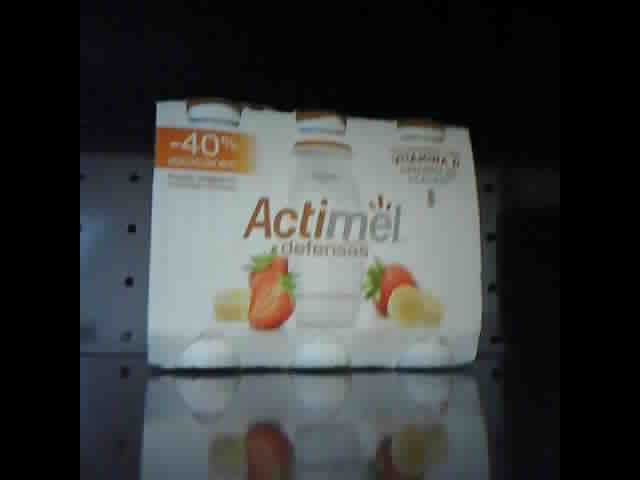actimel: (147, 96, 483, 369)
